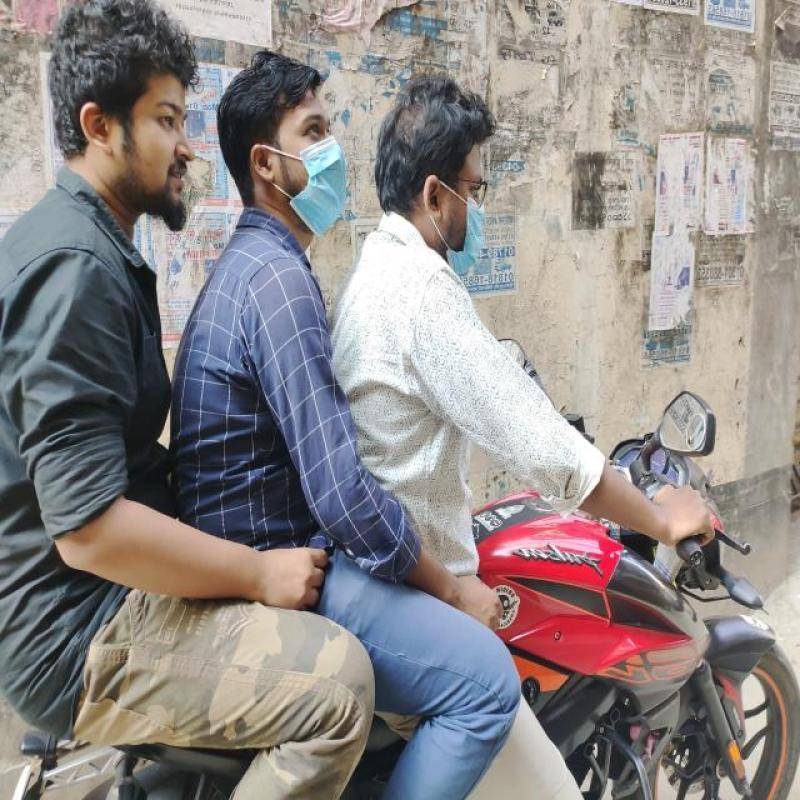nohelmet: (37, 0, 203, 222), (354, 58, 504, 272), (228, 36, 351, 225)
